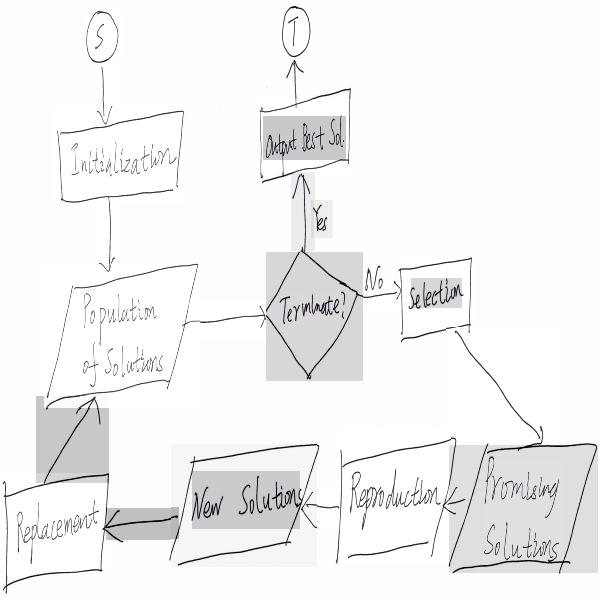arrow: (446, 328, 556, 442), (36, 396, 109, 483), (188, 301, 266, 339), (106, 508, 179, 540), (291, 172, 315, 251), (100, 195, 119, 278), (303, 490, 340, 530), (360, 283, 402, 311), (446, 486, 467, 522)
data: (45, 264, 200, 408), (449, 445, 598, 573), (172, 444, 317, 567)
decision: (266, 252, 363, 381)
process: (339, 428, 451, 563), (53, 107, 184, 203), (3, 473, 108, 574), (254, 99, 354, 173), (398, 258, 475, 332)
terminator: (85, 11, 123, 59), (280, 8, 310, 58), (96, 63, 116, 124)
text: (78, 291, 168, 381), (484, 459, 564, 560), (192, 472, 300, 530), (350, 466, 439, 522), (15, 499, 97, 548), (68, 139, 174, 176), (263, 116, 346, 160), (280, 294, 348, 331), (411, 278, 462, 308), (312, 200, 334, 238)
